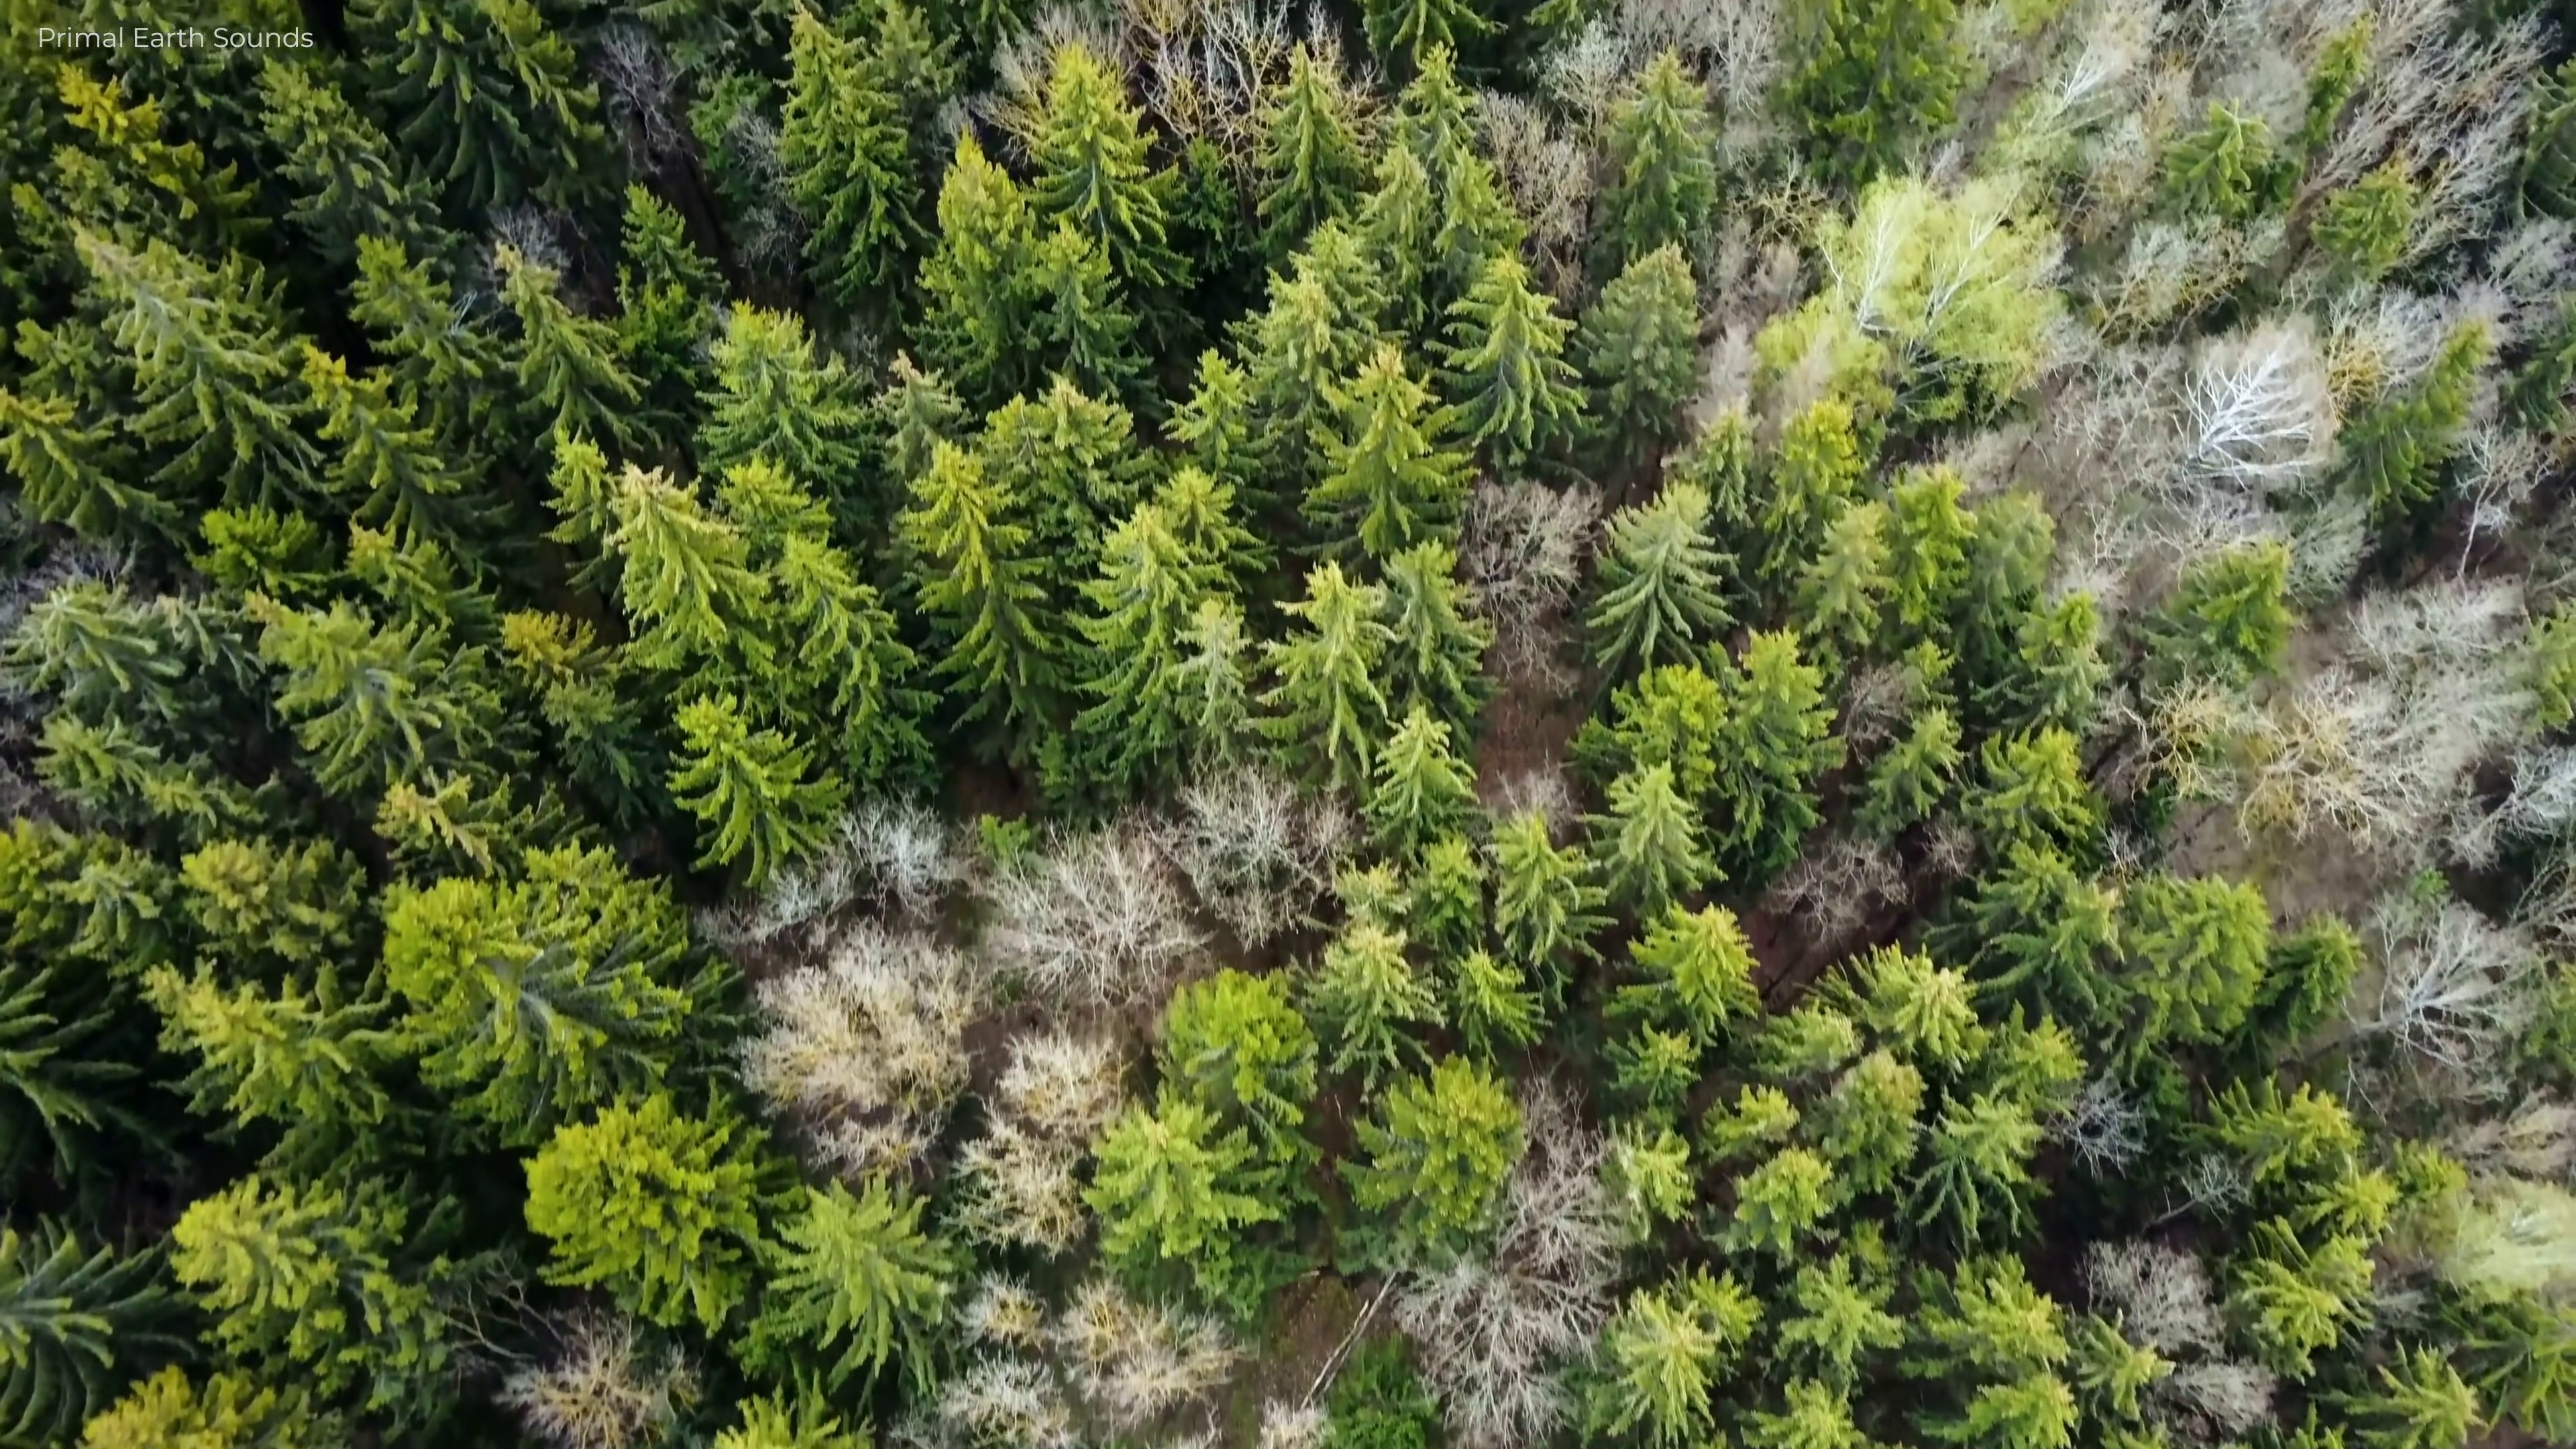tree: (389, 893, 695, 1113), (525, 1092, 768, 1327), (180, 1196, 449, 1376), (58, 234, 295, 426), (899, 442, 1033, 755), (248, 598, 478, 771), (147, 964, 384, 1127), (771, 1175, 961, 1371), (667, 697, 853, 893), (497, 616, 667, 821), (609, 467, 771, 678), (334, 235, 502, 433), (775, 7, 913, 242), (777, 552, 920, 777), (294, 338, 464, 525), (251, 55, 421, 228), (1304, 343, 1438, 547), (697, 301, 860, 462), (485, 242, 623, 430), (2342, 322, 2484, 504), (42, 60, 219, 205), (1442, 258, 1580, 441), (1039, 48, 1162, 244), (925, 152, 1040, 361), (180, 828, 366, 957), (1150, 978, 1322, 1118), (2236, 1228, 2410, 1362), (1102, 506, 1194, 755), (985, 379, 1145, 522), (1603, 58, 1721, 242), (1587, 246, 1707, 412), (1277, 575, 1375, 775), (1601, 485, 1718, 651), (1369, 536, 1493, 688), (28, 584, 175, 711), (1583, 1297, 1720, 1433), (2196, 1069, 2357, 1184), (1619, 906, 1766, 1021), (0, 387, 117, 531), (1313, 929, 1442, 1058), (1573, 667, 1734, 768), (1263, 48, 1353, 226), (372, 780, 545, 870), (1930, 1261, 2068, 1373), (2167, 545, 2296, 663), (1812, 1051, 1927, 1180), (1031, 218, 1131, 366), (1882, 467, 1982, 616), (1729, 633, 1819, 793), (2304, 152, 2427, 267), (1844, 950, 1987, 1047), (614, 175, 727, 295), (198, 506, 333, 607), (1376, 709, 1472, 851), (2341, 1353, 2484, 1447), (1798, 499, 1886, 649), (1166, 347, 1254, 492), (2015, 892, 2125, 1008), (1865, 706, 1967, 830), (1773, 1260, 1897, 1362), (1718, 1152, 1835, 1260), (64, 844, 175, 955), (1155, 472, 1258, 586), (1180, 609, 1249, 775), (867, 349, 971, 458), (2072, 1304, 2173, 1415), (1978, 725, 2082, 832), (345, 517, 453, 619), (1603, 768, 1693, 890), (1771, 402, 1863, 518), (1955, 1368, 2081, 1444), (1596, 1132, 1688, 1233), (1361, 140, 1430, 260), (1610, 1021, 1713, 1100), (1672, 412, 1752, 511), (51, 142, 138, 226), (1440, 156, 1513, 255), (2015, 589, 2104, 667), (1707, 1083, 1801, 1155), (2401, 1146, 2477, 1210)
